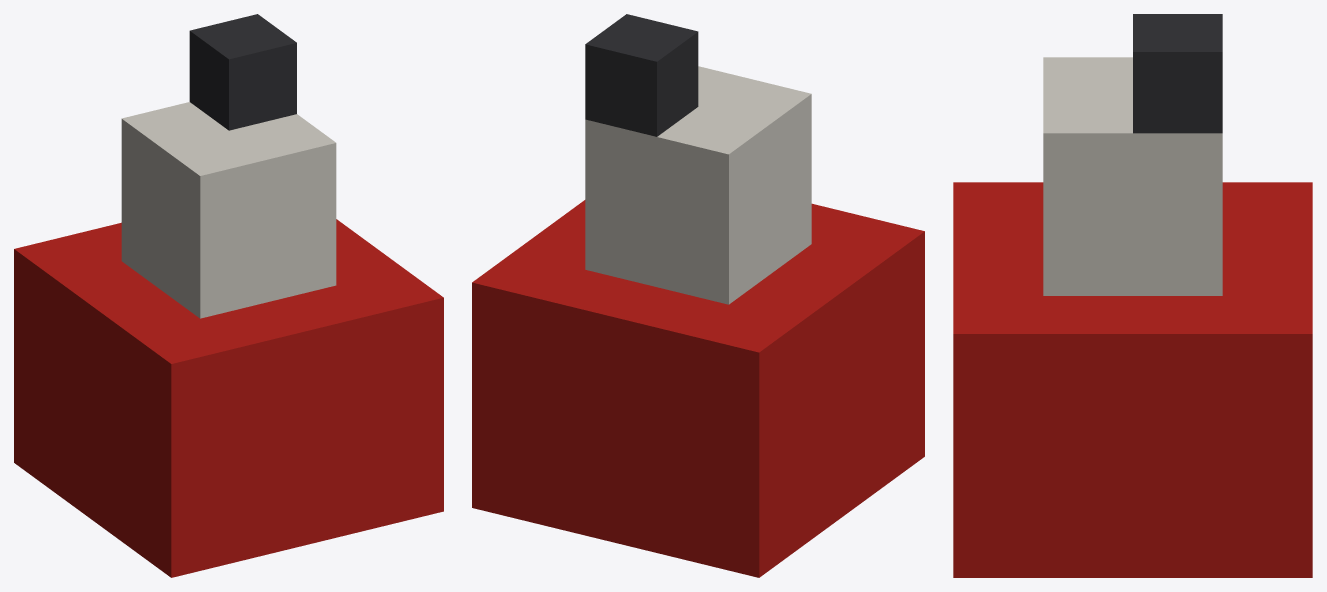
The model's file is prop_bobber_voxel.fbx.
3 views of the same model, side by side, from view 1: azimuth 30°, elevation 25°; view 2: azimuth 150°, elevation 25°; view 3: azimuth 270°, elevation 25° (orthographic). The views are drawn at different scales.
Parts seen in each view (by area): view 1: prop_bobber_voxel; view 2: prop_bobber_voxel; view 3: prop_bobber_voxel.
Part boxes in pixels (x1=…): prop_bobber_voxel: x1=14, y1=14, x2=443, y2=577; prop_bobber_voxel: x1=472, y1=14, x2=924, y2=577; prop_bobber_voxel: x1=953, y1=14, x2=1312, y2=577.
Size of the model in its own units: 0.32 by 0.48 by 0.32.
